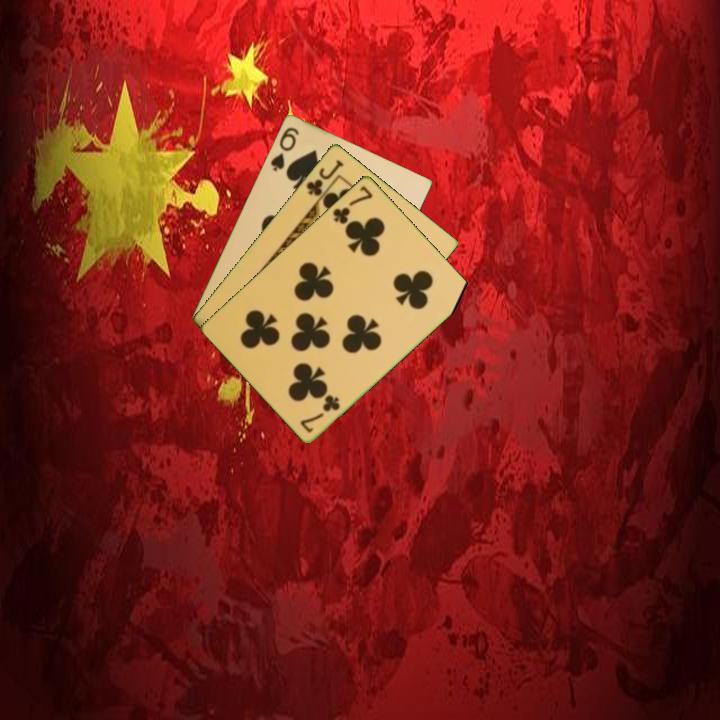6s: (267, 123, 302, 174)
7c: (329, 182, 376, 227), (296, 391, 343, 435)
Jc: (302, 155, 347, 199)
